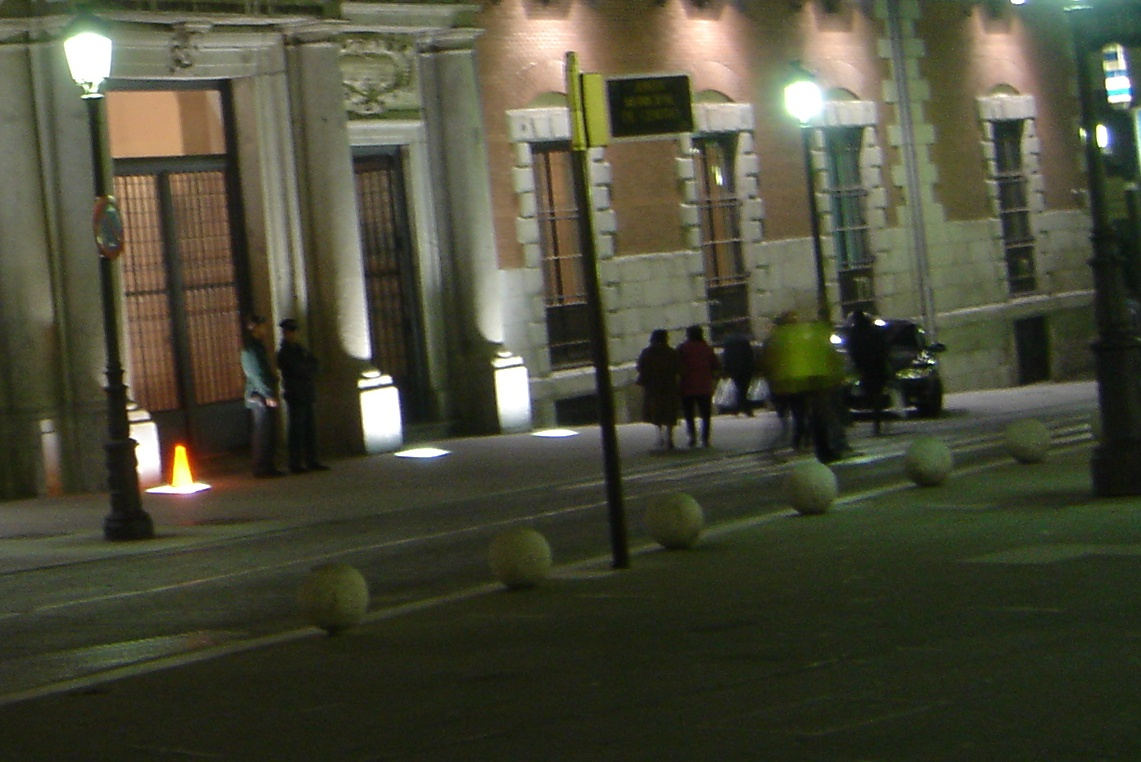person: (229, 313, 292, 479), (271, 312, 330, 472), (671, 323, 723, 448), (637, 324, 683, 449)
